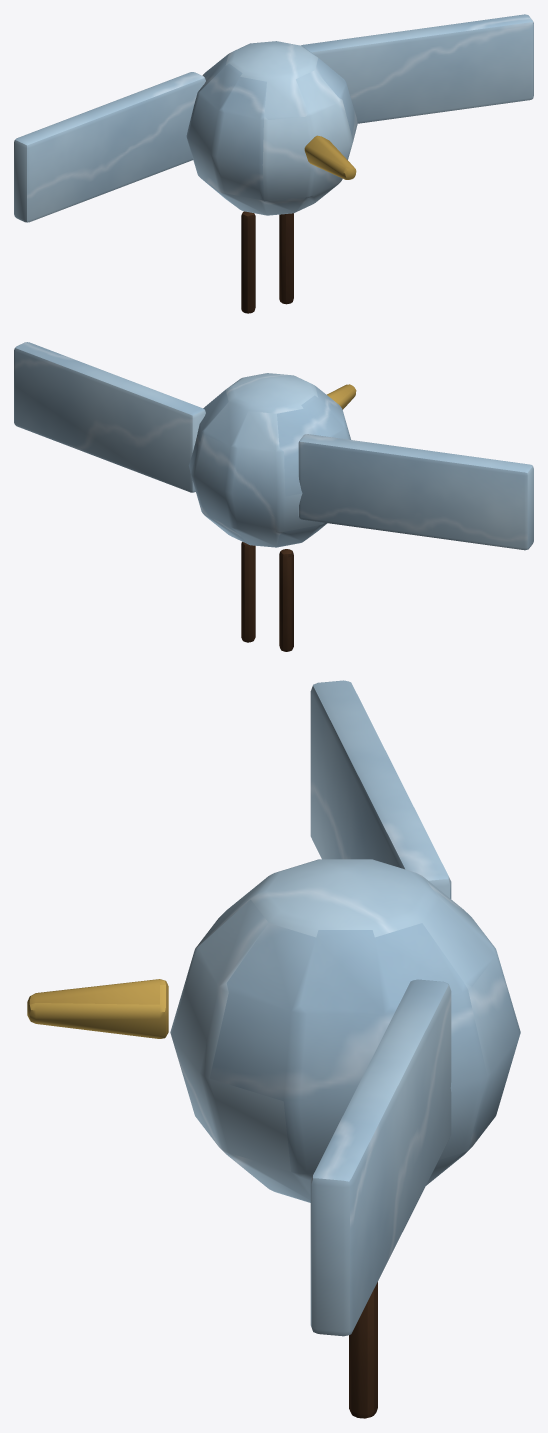
The model's file is unit_outcast_sky_eye.fbx.
The picture shows the model from 3 angles, top to bottom: view 1: azimuth 30°, elevation 25°; view 2: azimuth 150°, elevation 25°; view 3: azimuth 270°, elevation 25°; orthographic projection. The views are drawn at different scales.
Visible parts, largest first — view 1: unit_outcast_sky_eye; view 2: unit_outcast_sky_eye; view 3: unit_outcast_sky_eye.
Boxes of the visible parts, x1=… form: unit_outcast_sky_eye: x1=14, y1=14, x2=533, y2=313; unit_outcast_sky_eye: x1=14, y1=342, x2=533, y2=651; unit_outcast_sky_eye: x1=27, y1=680, x2=520, y2=1418.
Size of the model in its own units: 1.34 by 0.655 by 0.5582.
